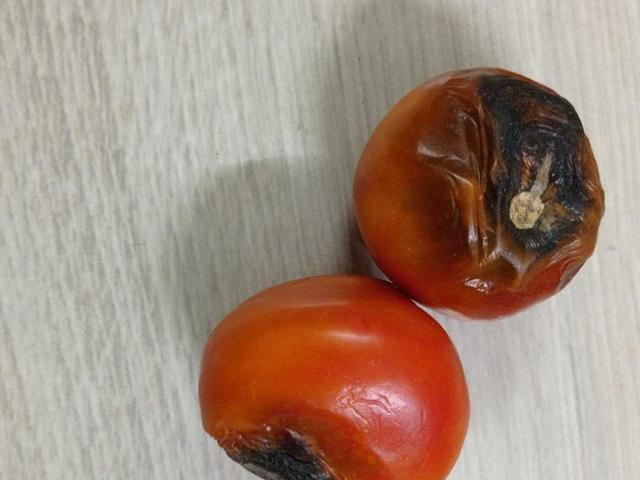defect: (344, 60, 617, 316), (198, 276, 472, 480)
